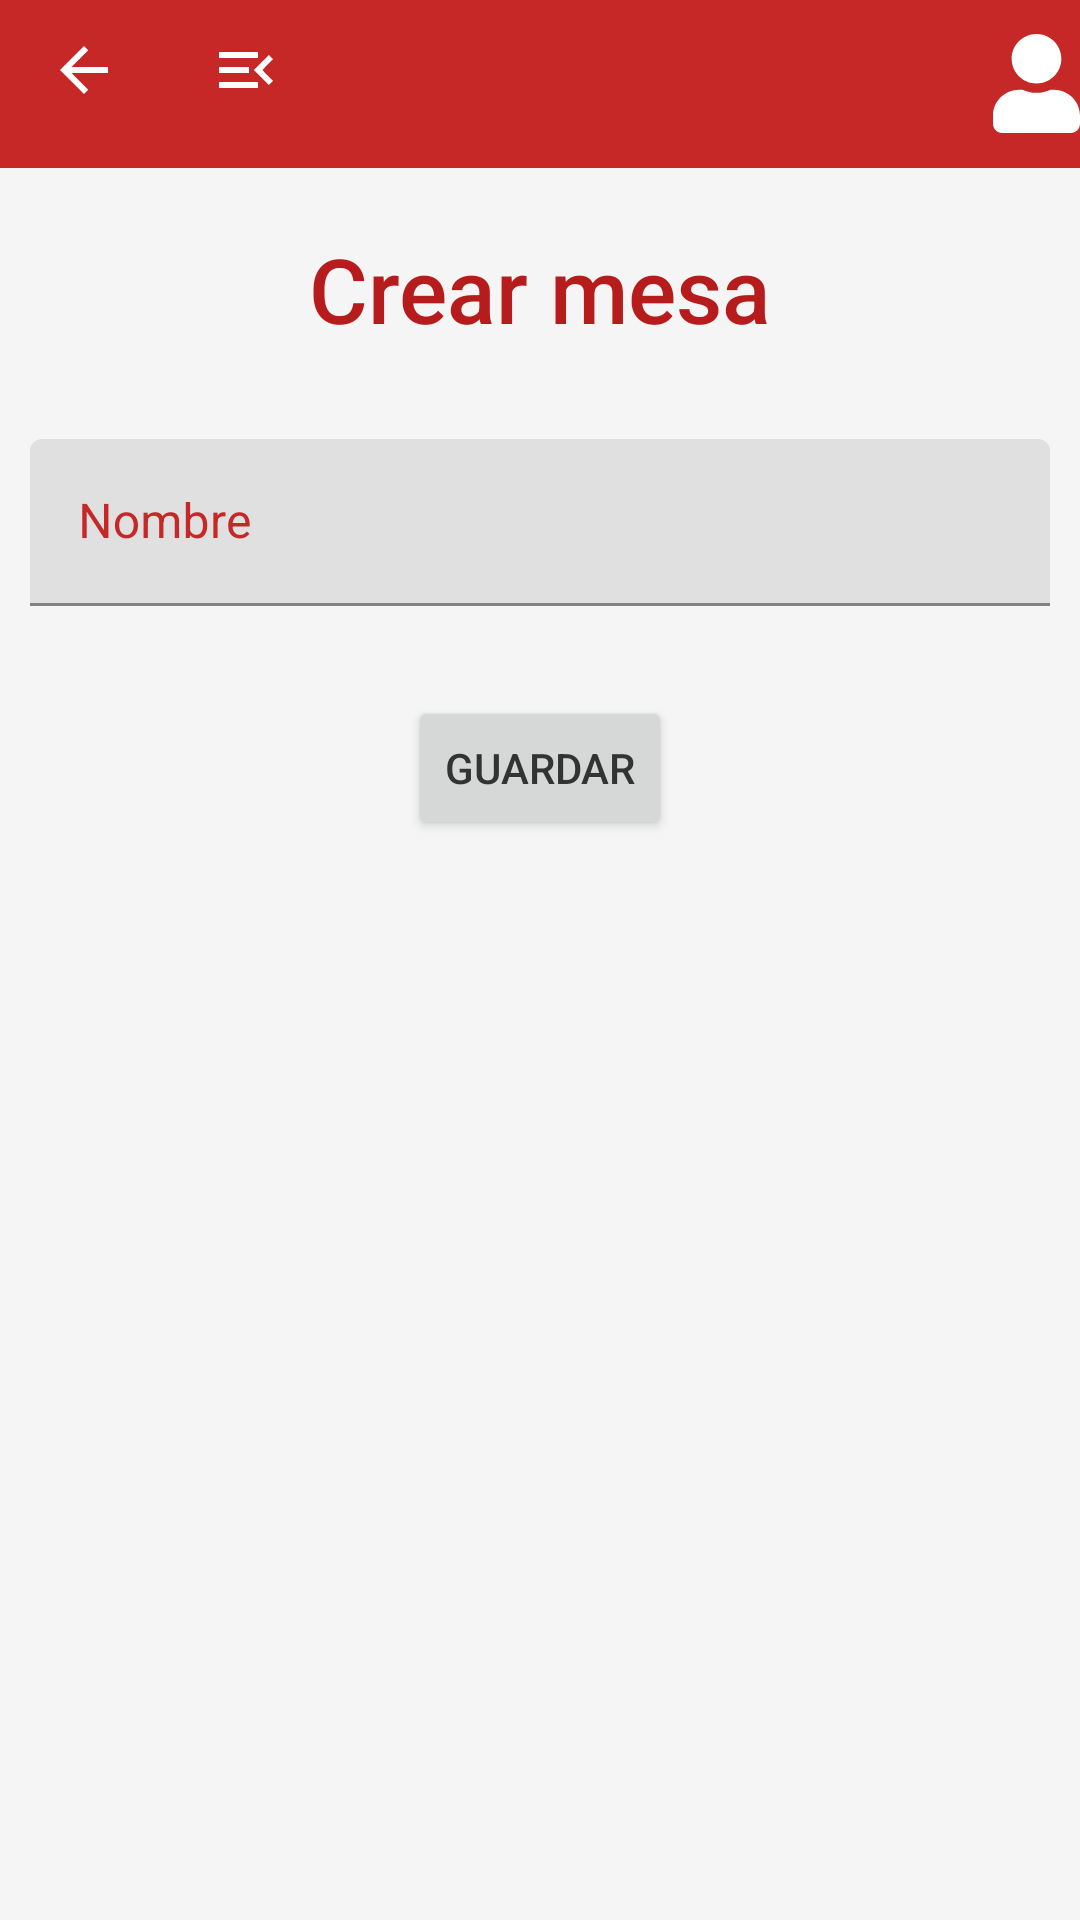

Point at icon controls on the screen. Image size 1080*1920, points as (x,y).
arrow back: (84,70)
user: (1036,83)
